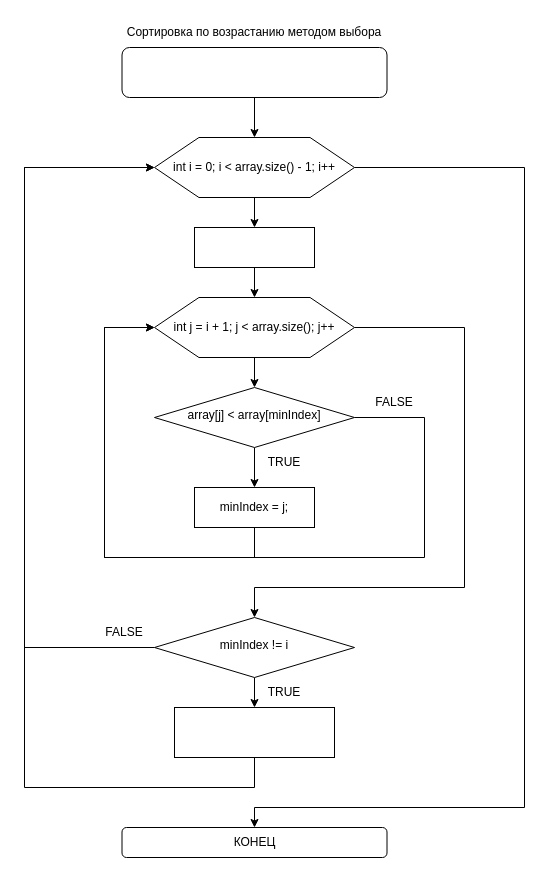
This 550x875 diagram has some shape labels left out. The shapes that lost their labels are listed below. From the top down, each one's box as (x1, y1, x2, y2) in pixels, then its label:
(121, 46, 387, 98): void SelectionSortAscending(std::vector<int>& array)
(194, 226, 314, 268): int minIndex = i;
(174, 706, 334, 758): int temp = array[i]; array[i] = array[minIndex]; array[minIndex] = temp;
